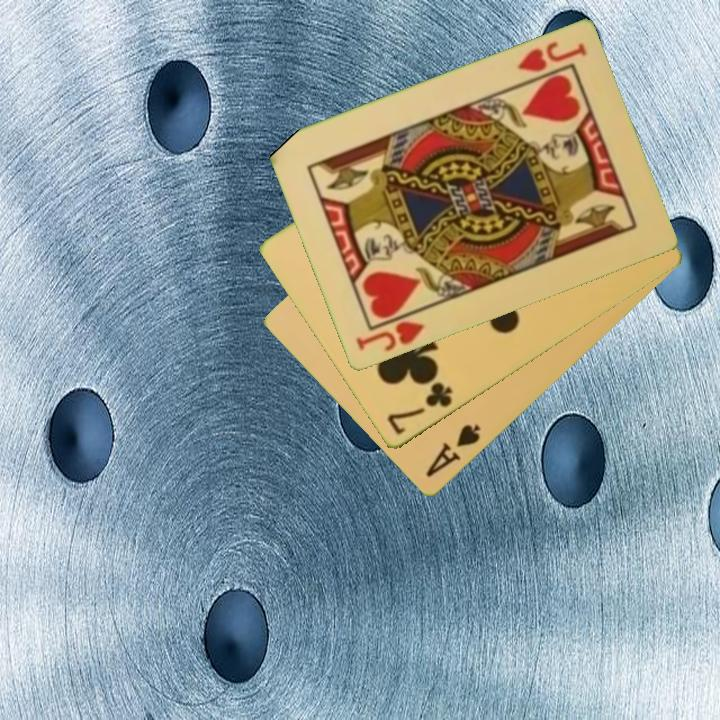7c: (383, 379, 456, 439)
As: (422, 421, 484, 481)
Jh: (352, 305, 428, 355), (513, 38, 590, 76)
